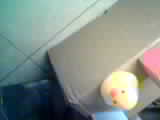duck: (94, 61, 149, 111)
